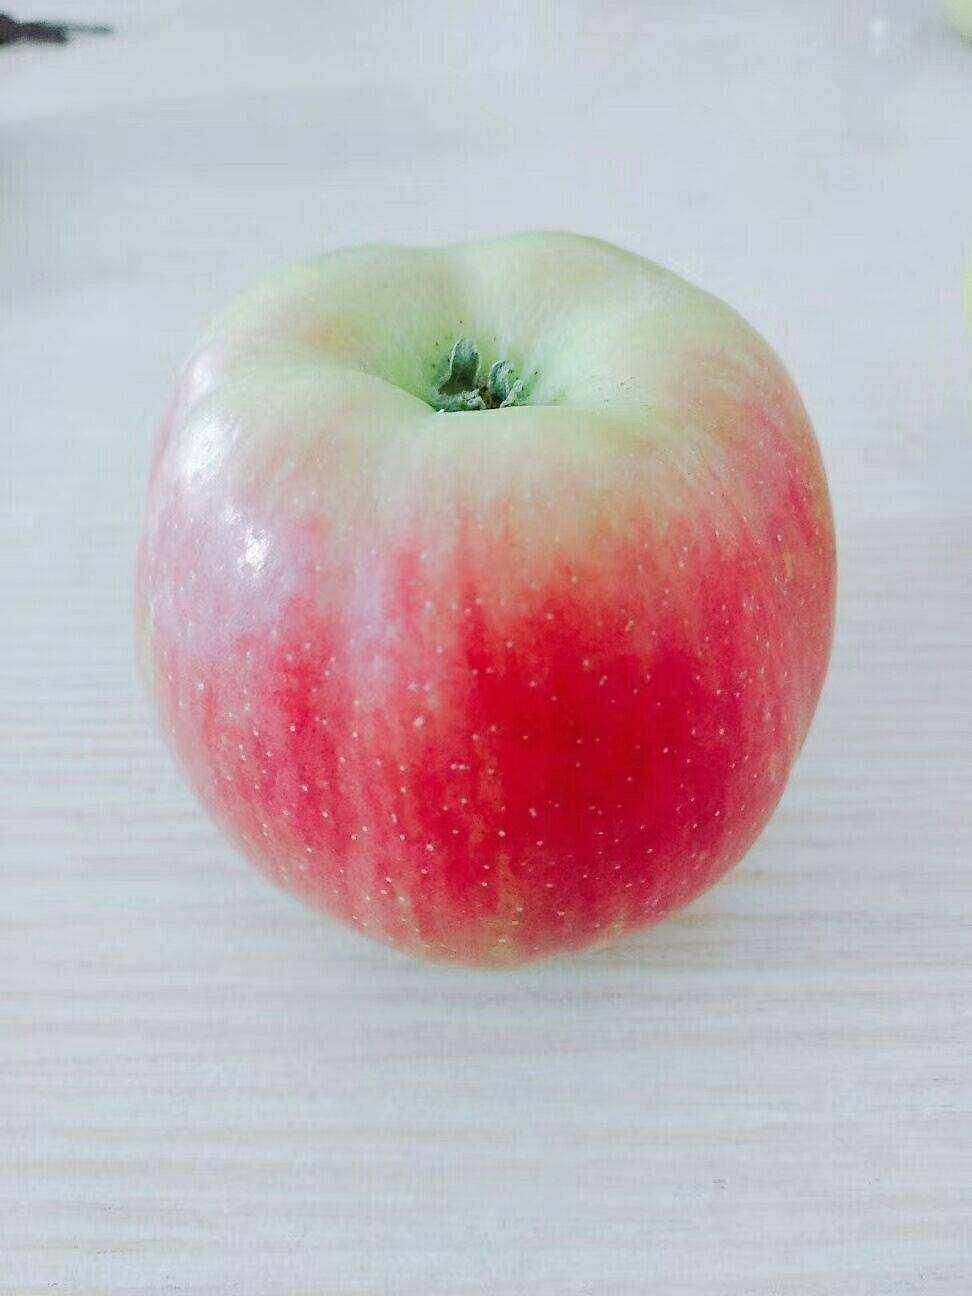apple: (131, 237, 838, 971)
